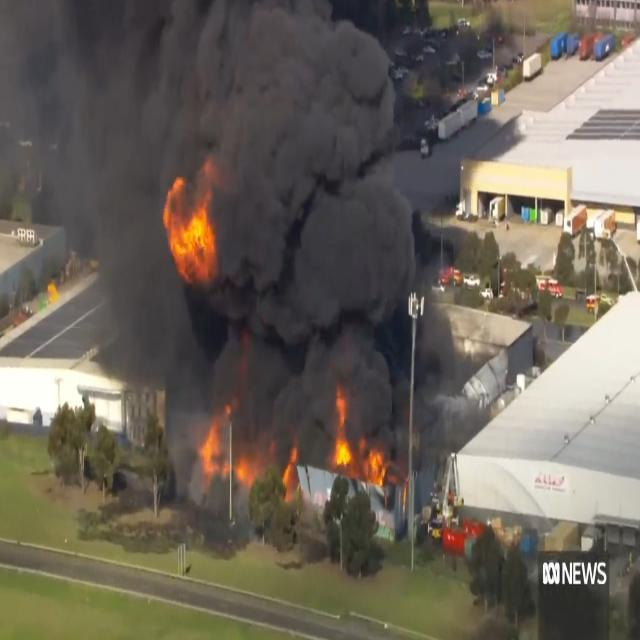fire: (160, 160, 227, 284), (202, 415, 268, 493), (362, 438, 392, 488), (334, 393, 352, 468)
